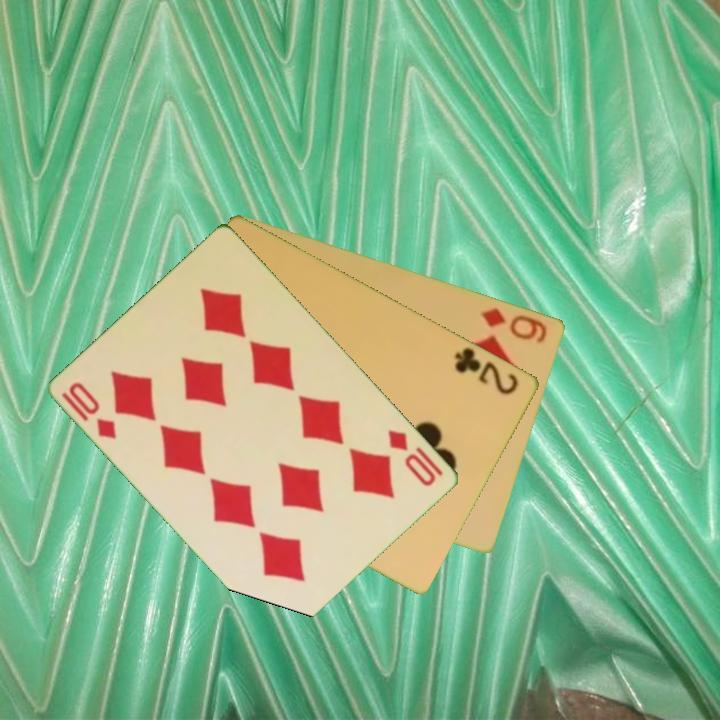10d: (58, 378, 120, 443), (385, 425, 440, 490)
2c: (451, 343, 522, 398)
6d: (478, 304, 551, 346)
